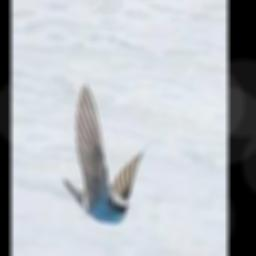Swallow: (63, 87, 147, 226)
